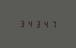four: (26, 19, 33, 27), (42, 20, 49, 28)
seven: (50, 20, 57, 28)
three: (34, 19, 41, 28), (18, 19, 25, 27)
